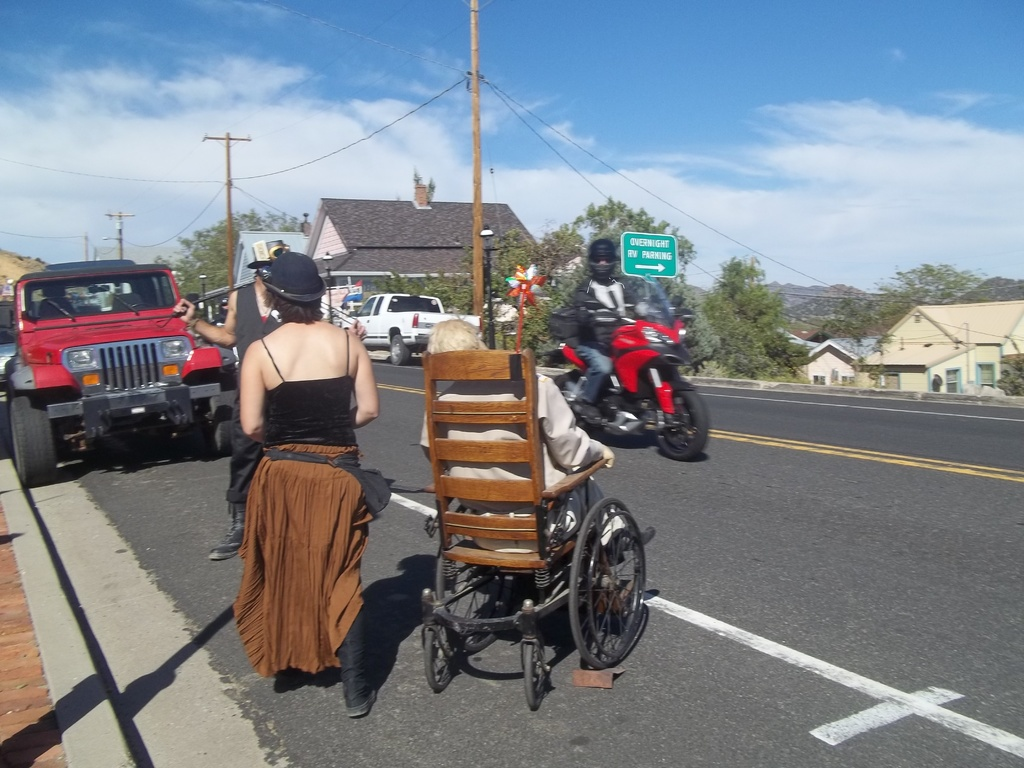Car: (12, 249, 236, 472)
